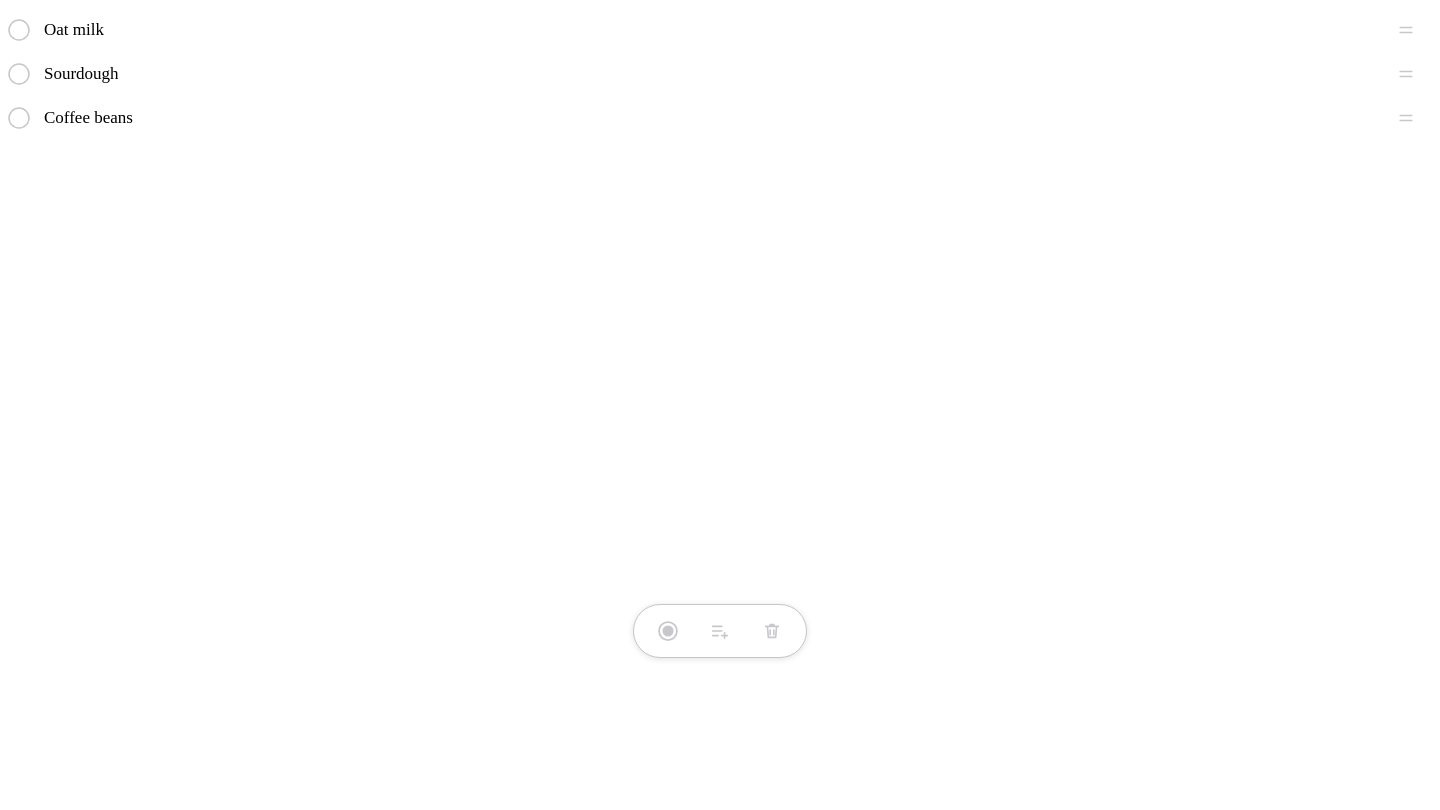
TaskList move drawer (Unit) › dismisses the move drawer without moving anything
Click the button "Oat milk": click(74, 30) left=44, top=8, right=1344, bottom=52
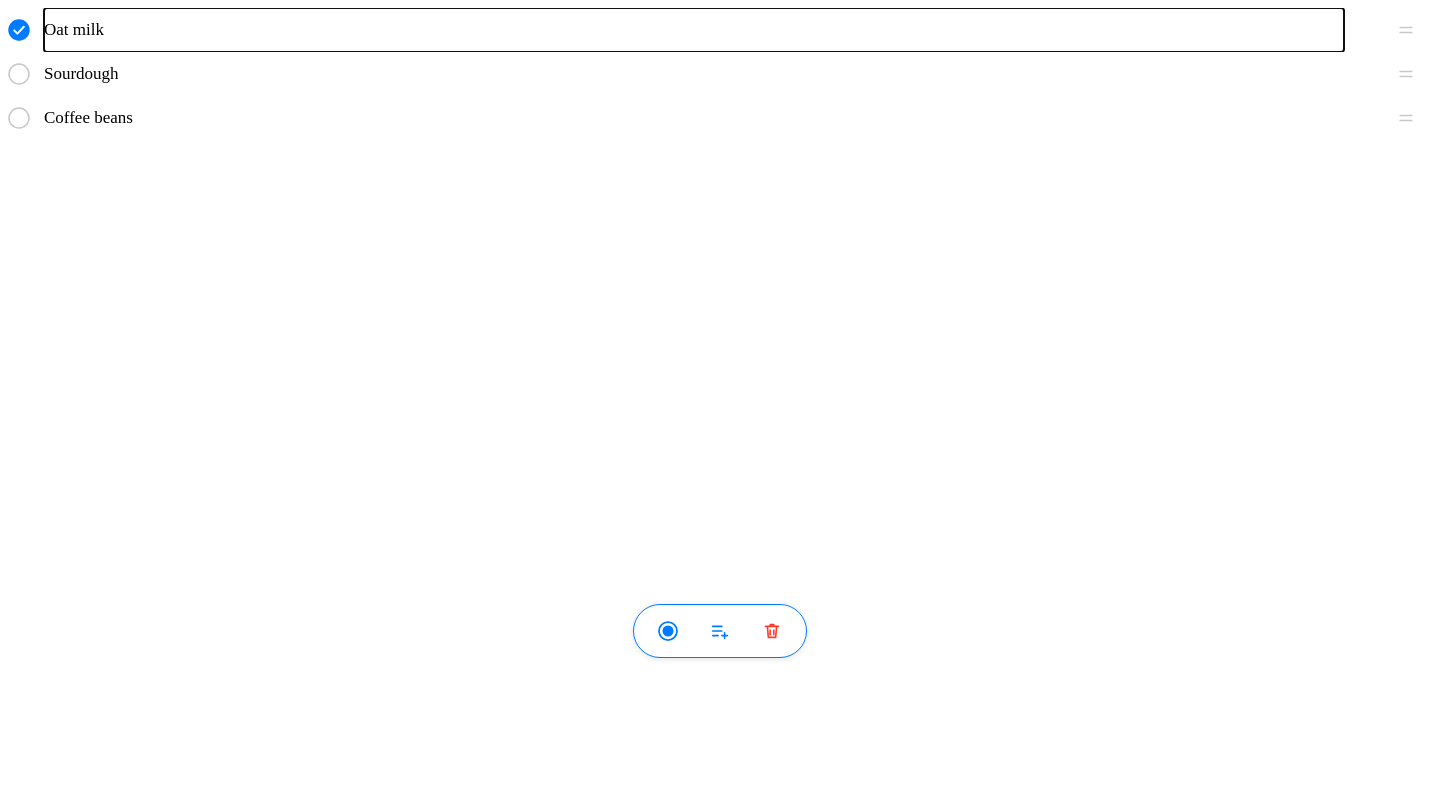
Click the button named "Move selected tasks": click(720, 631) left=698, top=609, right=742, bottom=653
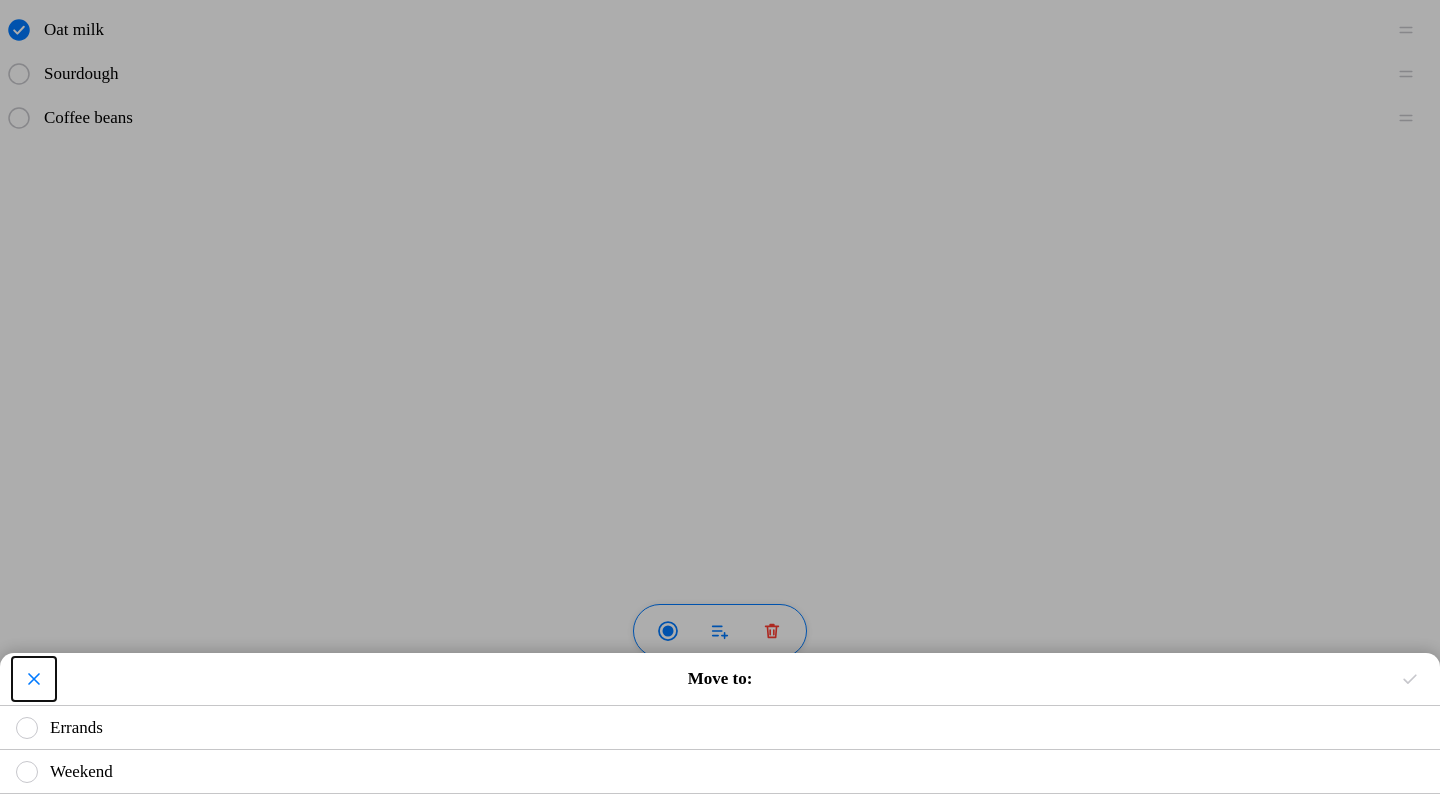
Click the button named "Cancel": click(34, 679) left=12, top=657, right=56, bottom=701
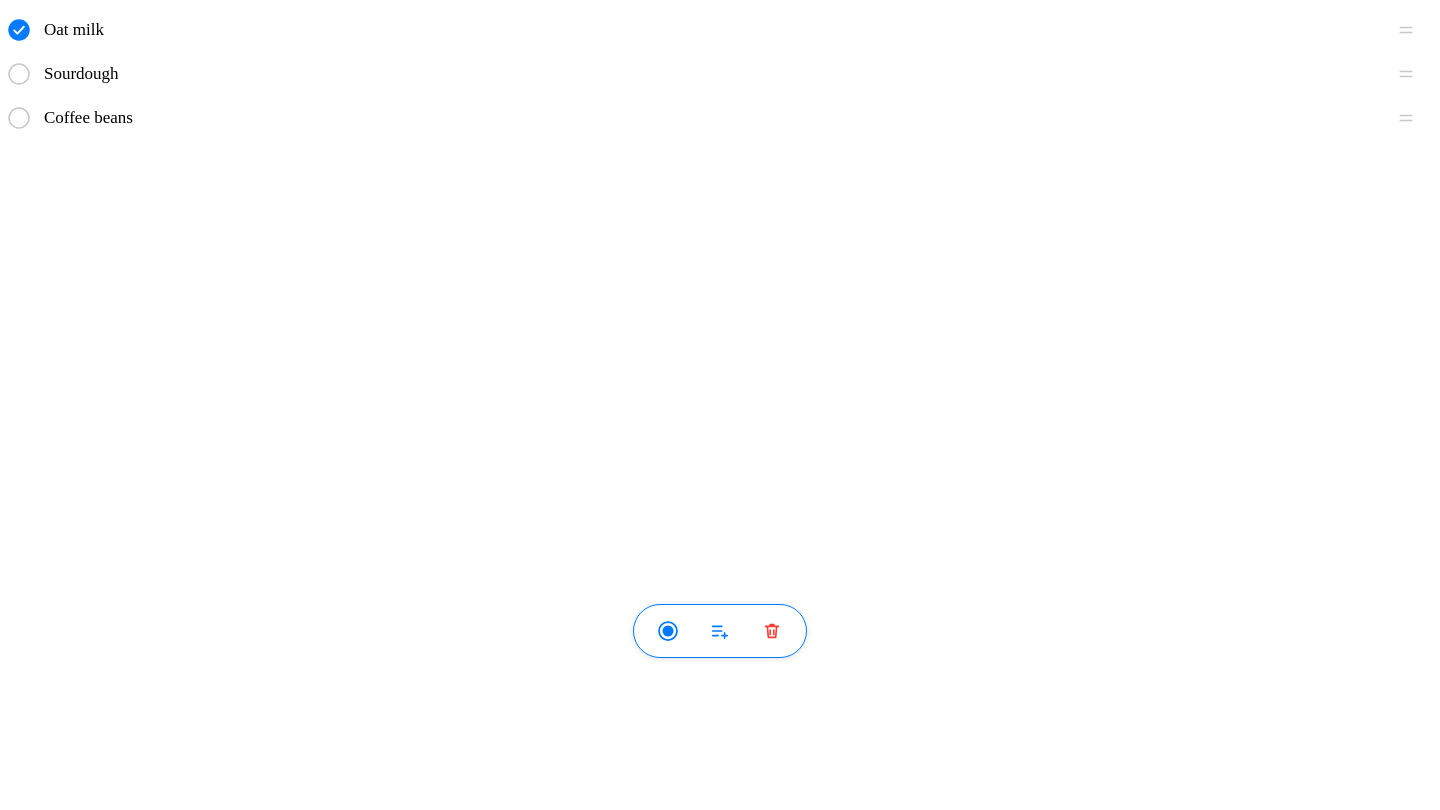
Result: the heading "Move to:" is gone
